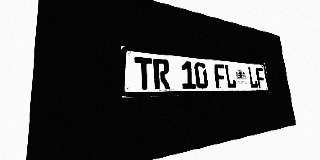0: (194, 62, 208, 89)
1: (180, 61, 196, 89)
F: (214, 64, 227, 89), (255, 67, 266, 88)
L: (224, 65, 237, 88), (247, 67, 258, 88)
R: (153, 58, 171, 89)
T: (135, 57, 154, 90)
